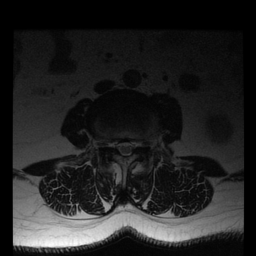CCS_normal: (121, 136, 128, 161)
LFS_normal: (136, 134, 142, 152)
LLS_normal: (128, 137, 135, 156)
RFS_normal: (108, 135, 115, 154)
RLS_normal: (115, 135, 121, 155)
